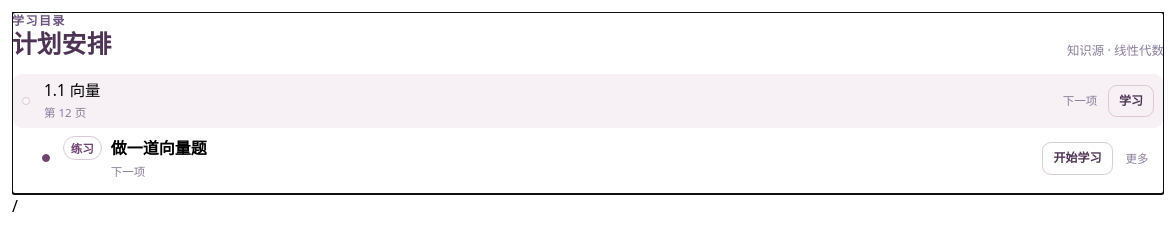
Test: PlanPage › opens learning first even when a later plan action is practice
The width and height of the screenshot is (1176, 234).
Check: the number of headings "做一道向量题" is 1, box [111,137,207,159]
Check: the text "练习" is shown, box [63,136,102,160]
Click the button "开始学习": click(1077, 158) [1042,142,1113,175]
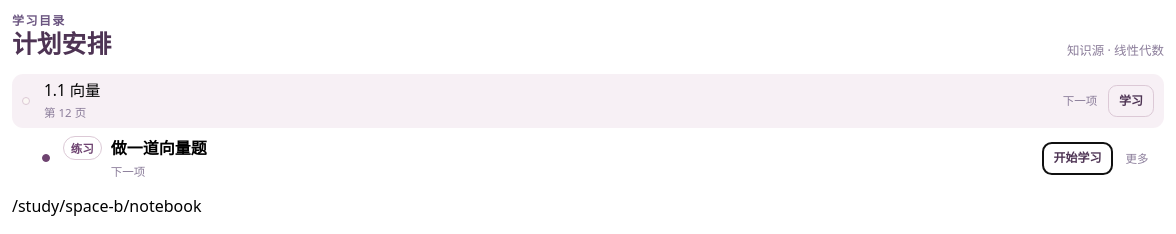
Check: the text named "current route" reads "/study/space-b/notebook", box [12,196,202,218]
